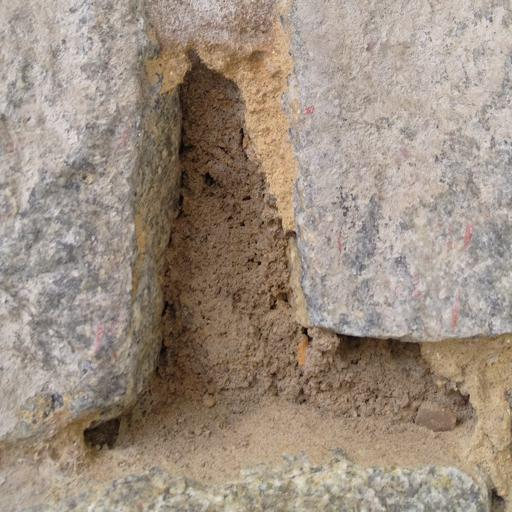spalling: (79, 27, 492, 488)
